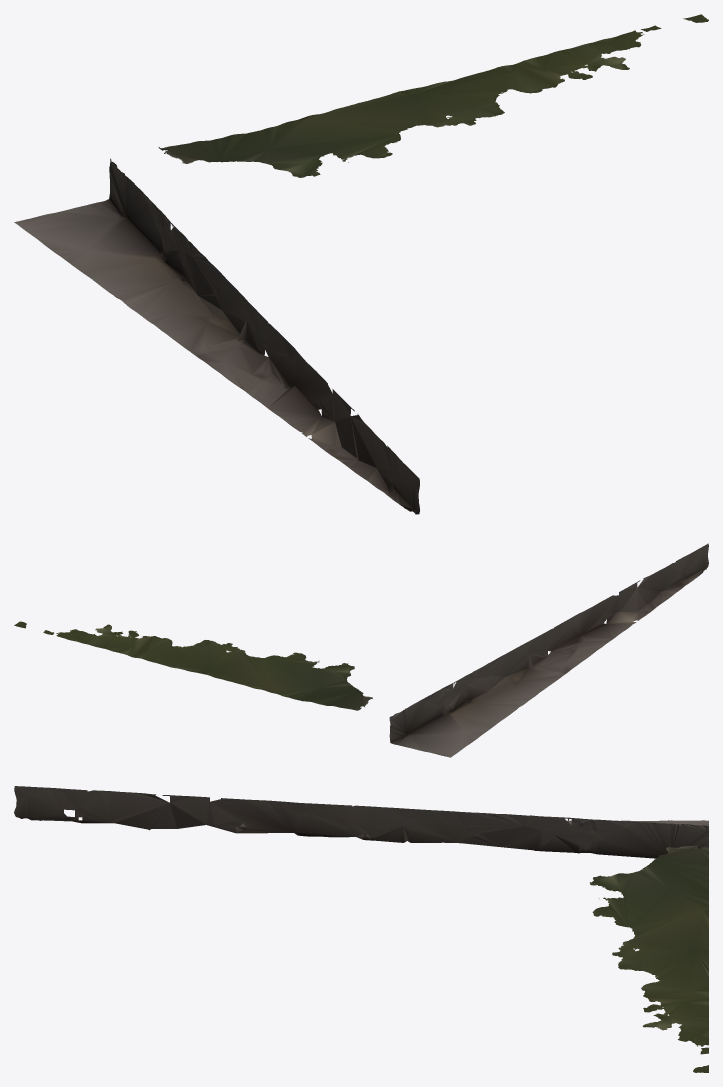
File: coarse.glb
The picture shows the model from 3 angles, top to bottom: view 1: azimuth 30°, elevation 25°; view 2: azimuth 150°, elevation 25°; view 3: azimuth 270°, elevation 25°; orthographic projection. The views are drawn at different scales.
Size of the model in its own units: 3.29 by 0.1997 by 3.37.
